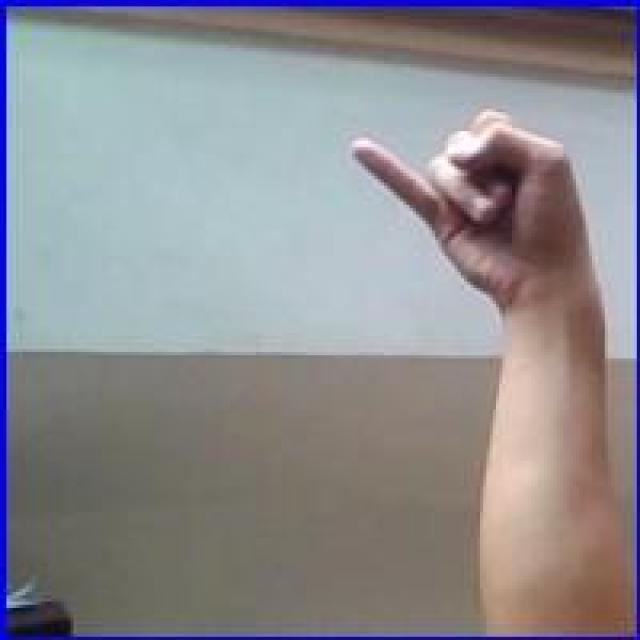J: (342, 112, 608, 307)
